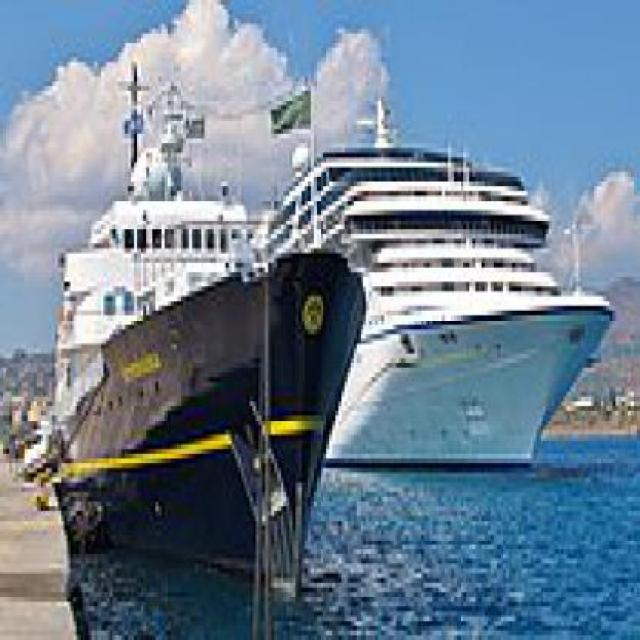cruise: (31, 44, 379, 603), (248, 125, 629, 503)
